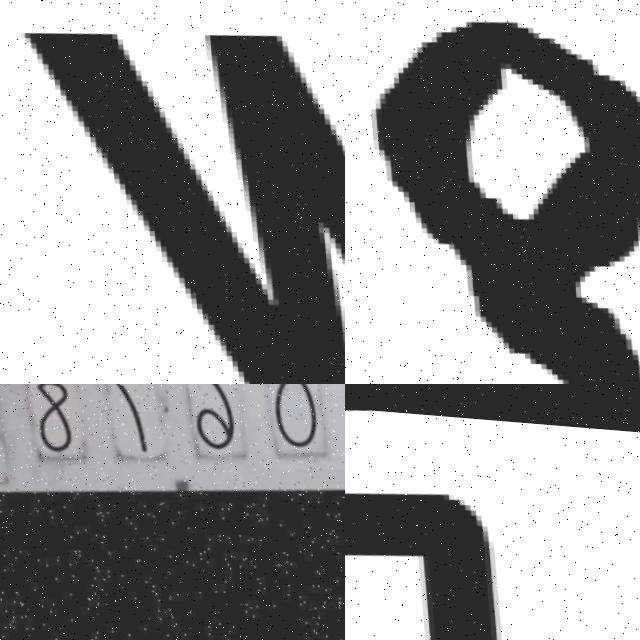0: (261, 384, 330, 449)
6: (180, 384, 249, 452)
7: (102, 384, 167, 455)
8: (24, 384, 89, 456)
9: (354, 0, 640, 384)
W: (16, 0, 345, 384)
